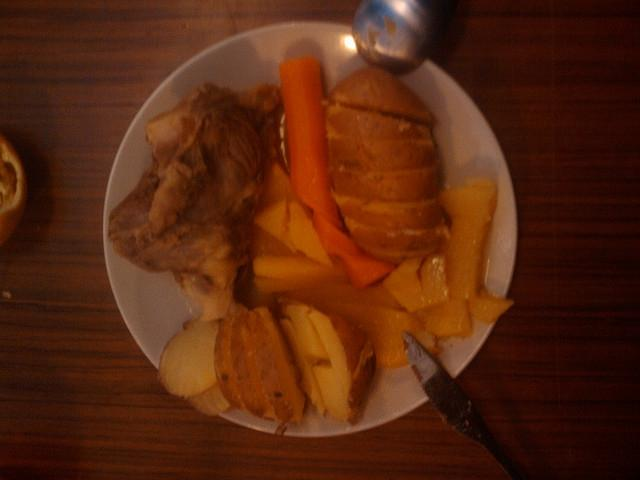carrot: (279, 56, 396, 288)
